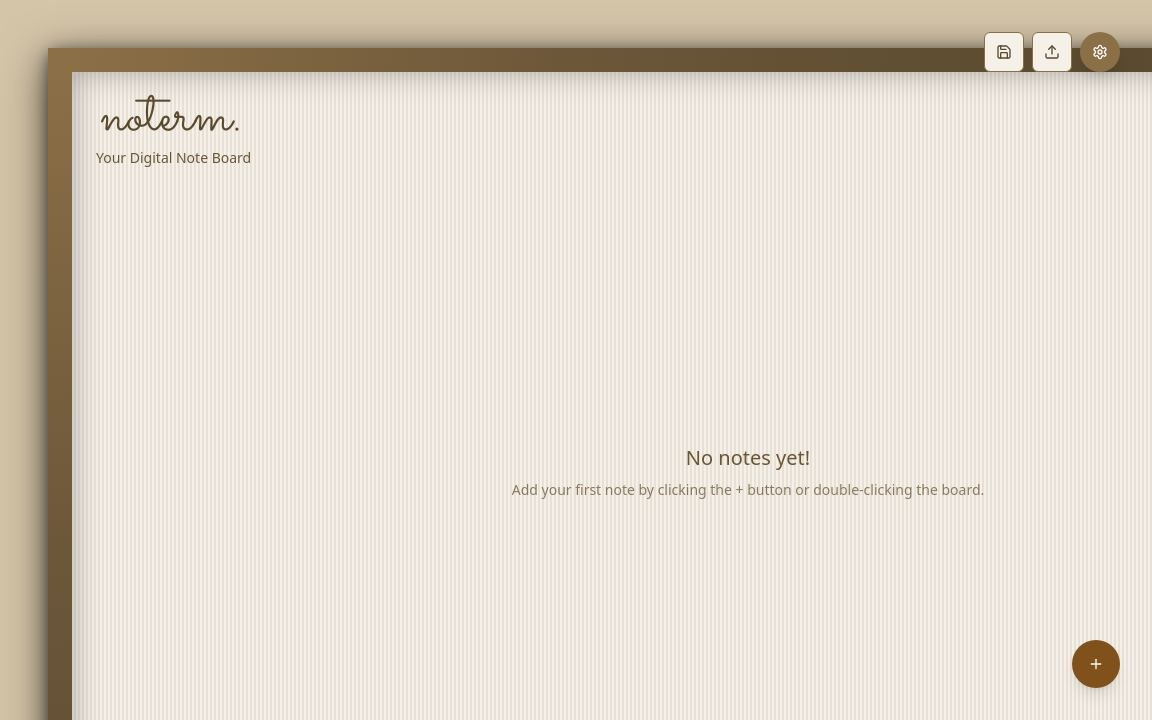
Test case: Index page › should close add note dialog on cancel
This screenshot has width=1152, height=720.
Click the 4th button at (1096, 664), box [1072,640,1120,688]
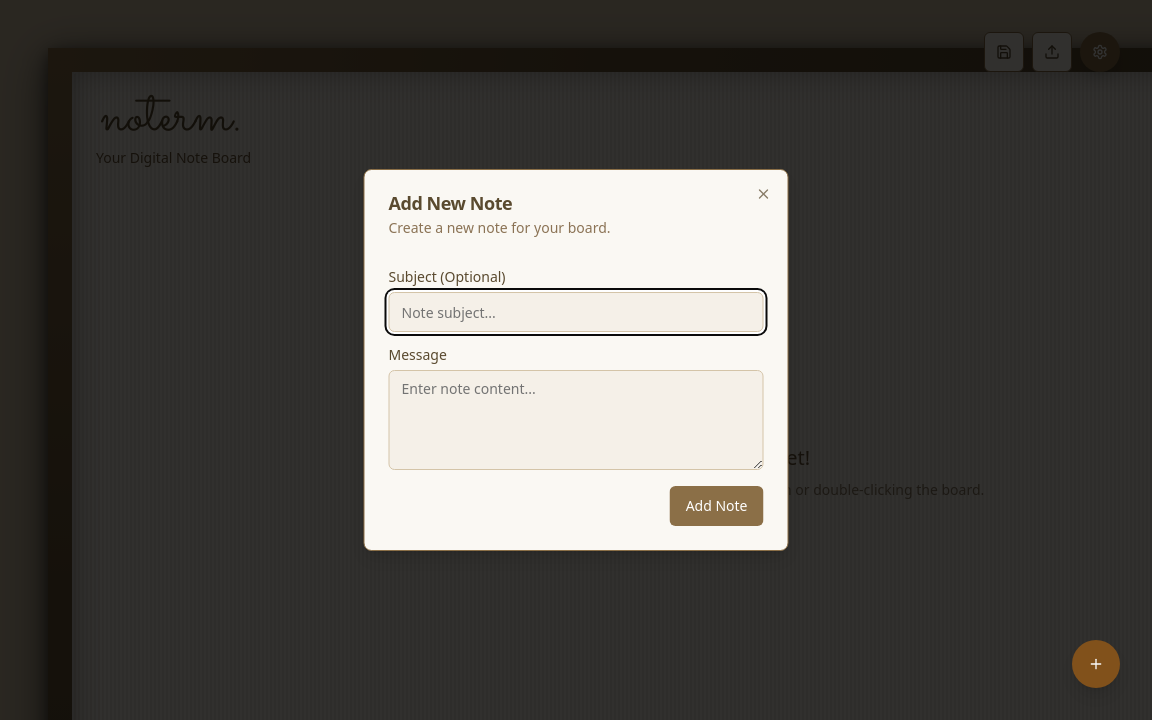
Check: the heading "Add New Note" is shown, box [388,191,512,215]
// Press Escape key to close dialog
Press Escape
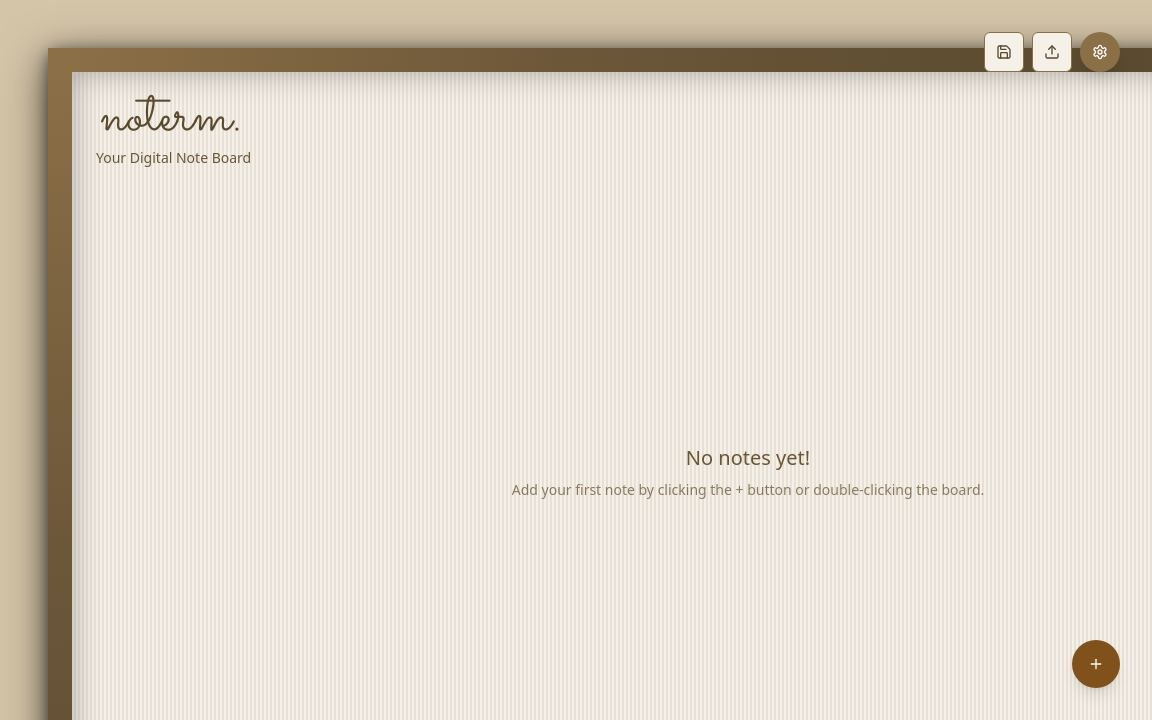
Check: the heading "Add New Note" is gone
